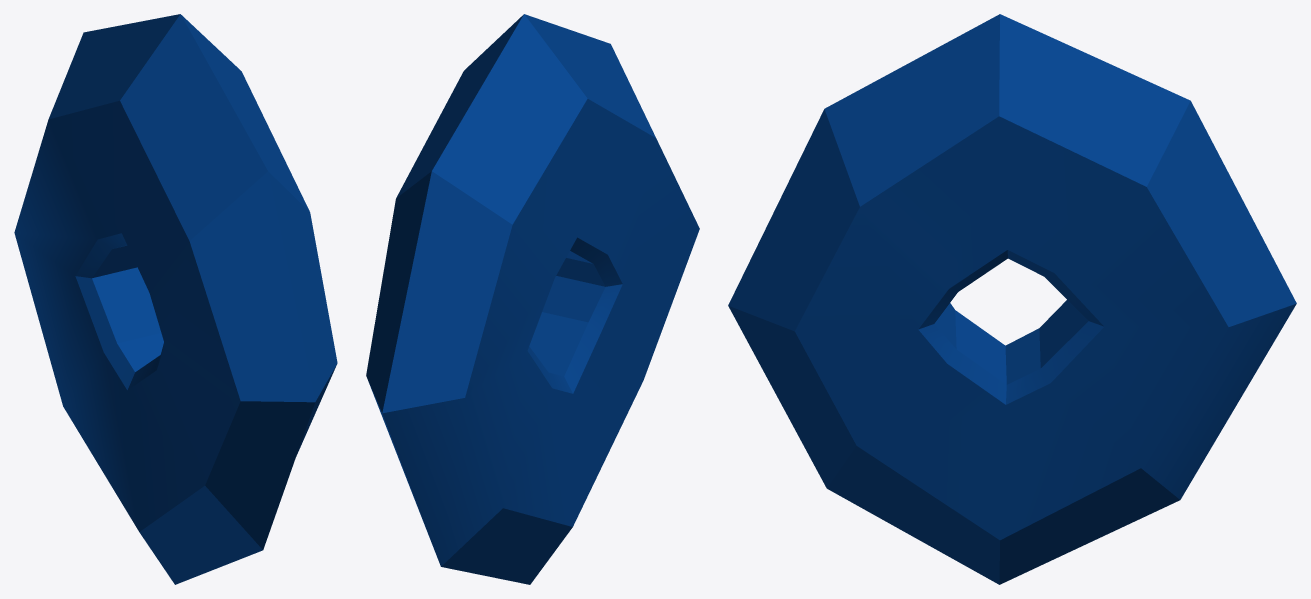
Rendered from BlueGemFBX.fbx.
3 renders of one model, left to right at view 1: azimuth 30°, elevation 25°; view 2: azimuth 150°, elevation 25°; view 3: azimuth 270°, elevation 25°, orthographic.
Parts seen in each view (by area): view 1: BlueGem; view 2: BlueGem; view 3: BlueGem.
Boxes of the visible parts, x1=… form: BlueGem: x1=14, y1=14, x2=337, y2=584; BlueGem: x1=366, y1=14, x2=699, y2=584; BlueGem: x1=728, y1=14, x2=1296, y2=584.
Size of the model in its own units: 53.77 by 238 by 214.
